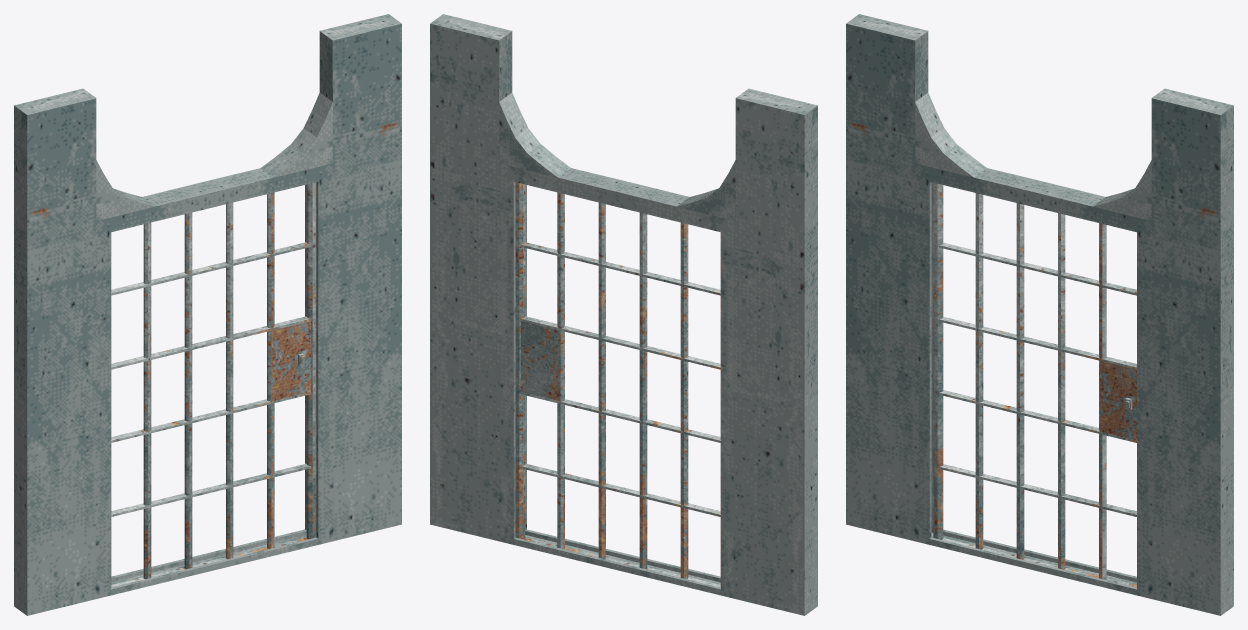
File: button_door.glb
3 views of the same model, side by side, from view 1: azimuth 30°, elevation 25°; view 2: azimuth 150°, elevation 25°; view 3: azimuth 330°, elevation 25° (orthographic).
Visible parts, largest first — view 1: Cube, cell_wall.001; view 2: Cube, cell_wall.001; view 3: Cube, cell_wall.001.
Boxes of the visible parts, x1,y1,x2,y2 form: Cube: (14,14,401,615); cell_wall.001: (111,182,316,587); Cube: (430,14,817,615); cell_wall.001: (515,182,720,587); Cube: (846,14,1233,615); cell_wall.001: (933,182,1136,587).
Bounding box in the file's own units: 3.29 × 4.2 × 0.2.
Materials: 4 (4 with a texture image).
